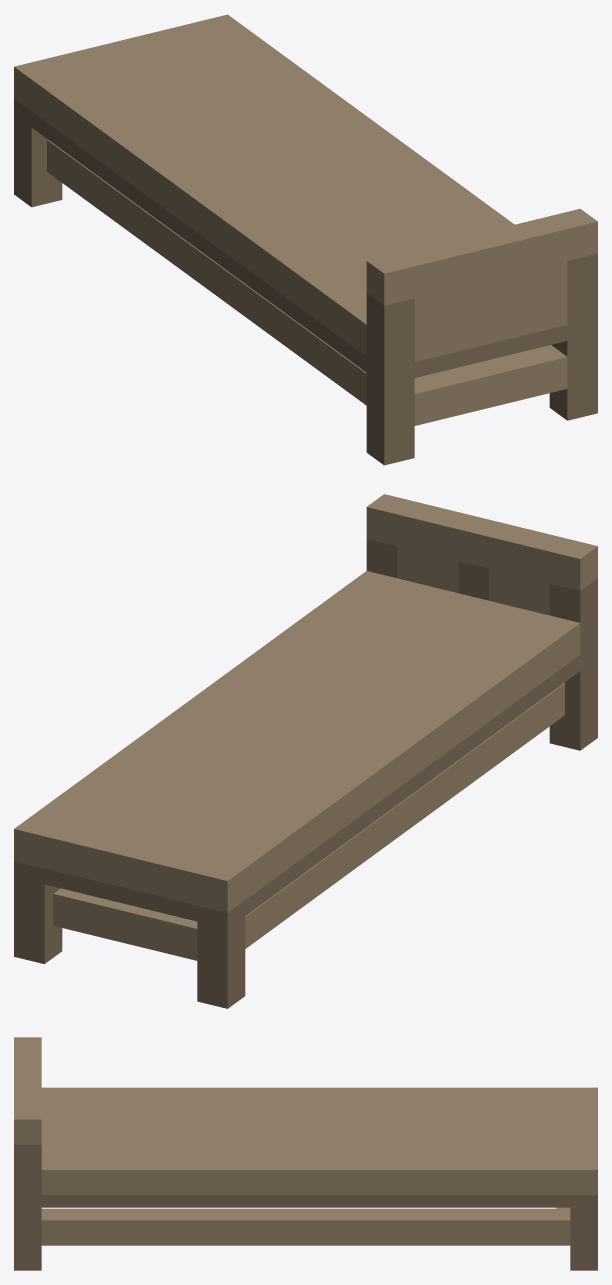
The model's file is banco_fieles_catedral_01.glb.
3 renders of one model, top to bottom at view 1: azimuth 30°, elevation 25°; view 2: azimuth 150°, elevation 25°; view 3: azimuth 270°, elevation 25°, orthographic. The views are drawn at different scales.
Visible parts, largest first — view 1: banco_fieles_catedral; view 2: banco_fieles_catedral; view 3: banco_fieles_catedral.
Boxes of the visible parts, bbox=[...] form: banco_fieles_catedral: bbox=[14, 14, 597, 465]; banco_fieles_catedral: bbox=[14, 494, 597, 1008]; banco_fieles_catedral: bbox=[14, 1037, 597, 1270].
Size of the model in its own units: 1 by 0.8571 by 3.
